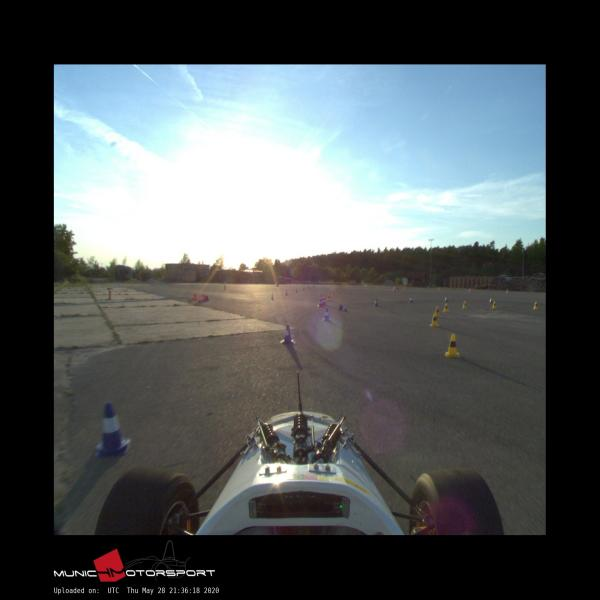blue_cone: (95, 402, 131, 457), (280, 324, 295, 345), (322, 308, 331, 322), (338, 304, 347, 312), (374, 300, 378, 306), (409, 297, 413, 303)
large_orange_cone: (317, 294, 324, 307), (322, 293, 327, 306)
yellow_cone: (445, 333, 460, 358), (430, 313, 439, 327), (443, 303, 449, 312), (492, 301, 496, 309), (436, 306, 439, 316), (463, 301, 467, 308), (534, 302, 538, 309)
